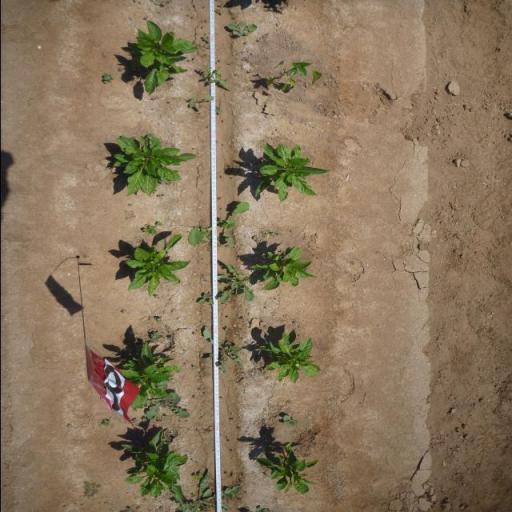plant: (118, 429, 188, 503), (250, 142, 333, 203), (133, 21, 199, 96), (113, 137, 199, 193), (120, 234, 190, 292), (250, 440, 324, 494), (256, 331, 320, 384), (118, 344, 176, 394), (254, 246, 317, 290), (262, 59, 326, 94)
weed: (186, 201, 251, 246), (184, 468, 241, 512), (216, 263, 254, 304), (202, 338, 244, 372), (145, 394, 193, 420), (200, 64, 232, 90), (226, 20, 258, 38), (201, 232, 223, 254), (188, 96, 214, 110), (82, 480, 102, 498), (142, 221, 163, 234), (196, 292, 214, 306), (281, 414, 299, 426), (260, 230, 280, 238), (101, 72, 114, 84), (122, 210, 137, 220), (148, 331, 162, 340), (201, 326, 211, 338), (232, 364, 242, 375), (190, 473, 204, 480), (100, 420, 110, 428), (264, 3, 274, 11), (201, 35, 209, 43), (215, 105, 221, 115), (159, 1, 169, 7), (214, 9, 223, 15), (140, 416, 147, 423), (130, 418, 138, 424), (153, 316, 161, 322), (252, 236, 260, 242), (222, 326, 229, 332), (116, 66, 123, 72), (152, 294, 160, 299), (155, 194, 164, 198), (217, 2, 223, 8), (120, 309, 126, 314), (167, 336, 173, 340), (191, 365, 196, 369), (142, 16, 148, 19), (198, 389, 202, 392), (127, 204, 132, 206)
